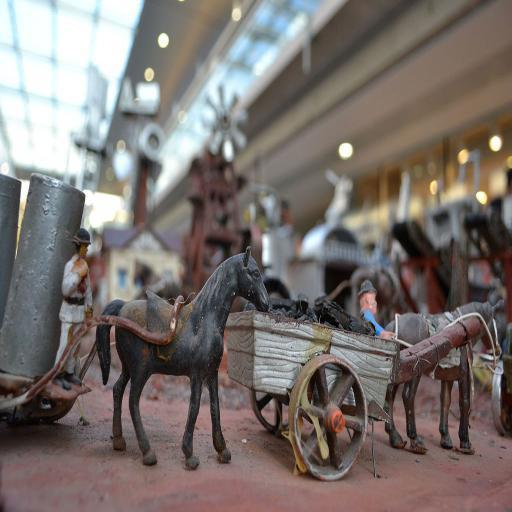horse: (92, 242, 272, 466), (383, 300, 504, 454)
